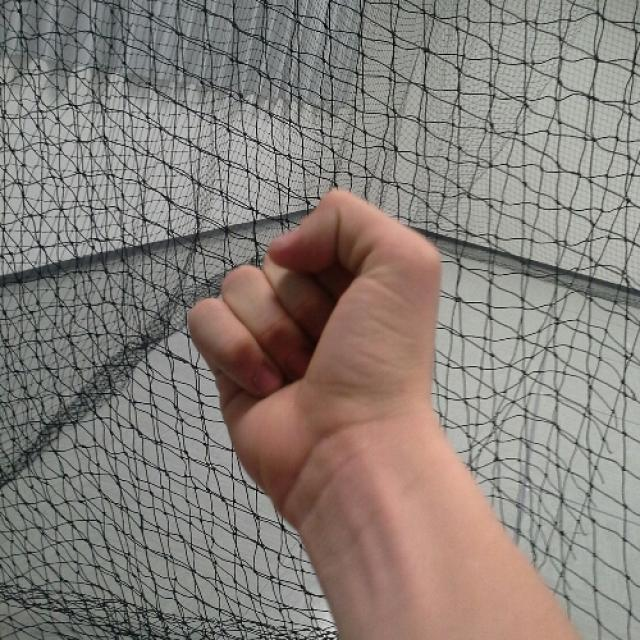fist: (188, 185, 444, 478)
